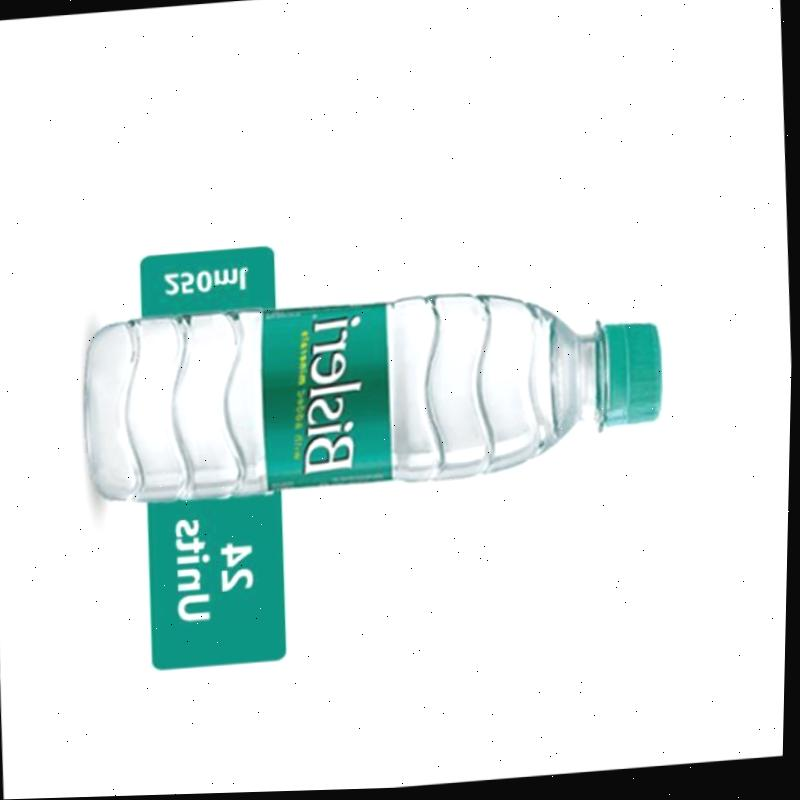botella: (82, 280, 669, 515)
